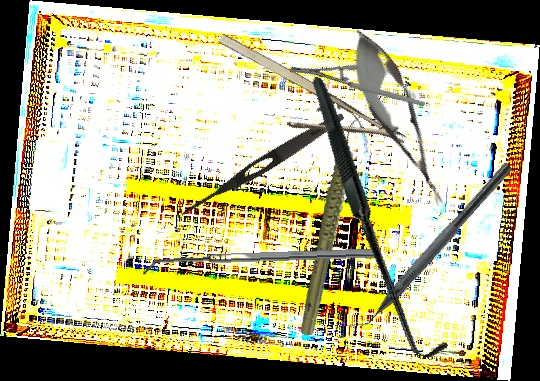Chopper: (343, 151, 514, 341)
Dressing Forceps: (177, 108, 348, 223)
Handpiece: (256, 110, 410, 340)
Hook Surgical: (237, 76, 519, 363)
Micro Scissor: (334, 19, 464, 217)
Needle Holder: (199, 28, 408, 181), (289, 29, 426, 145)
Spatula Surgical: (142, 248, 378, 275)
